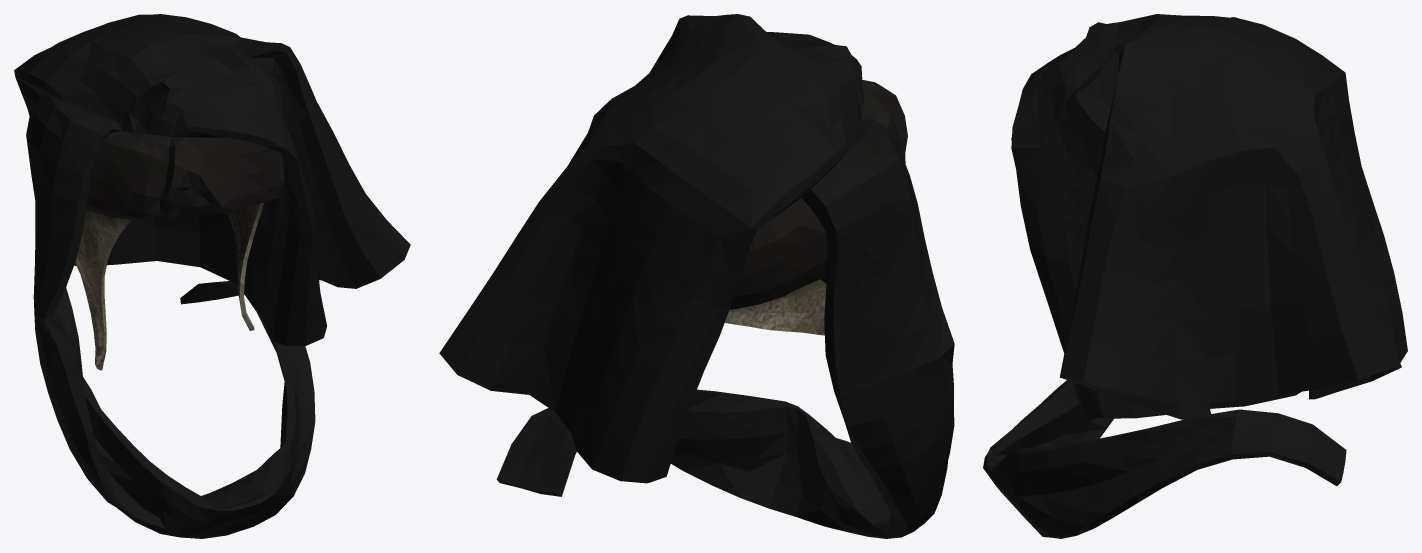
File: DZIWNA_CHUSTA.glb
3 views of the same model, side by side, from view 1: azimuth 30°, elevation 25°; view 2: azimuth 150°, elevation 25°; view 3: azimuth 270°, elevation 25° (orthographic). The views are drawn at different scales.
Visible parts, largest first — view 1: DZIWNA_CHUSTA; view 2: DZIWNA_CHUSTA; view 3: DZIWNA_CHUSTA.
Part boxes in pixels (x1,y1,x2,y2): DZIWNA_CHUSTA: (14,14,410,538); DZIWNA_CHUSTA: (439,14,954,538); DZIWNA_CHUSTA: (983,14,1407,538).
Size of the model in its own units: 0.3613 by 0.453 by 0.3522.
Materials: 1 (1 with a texture image).
